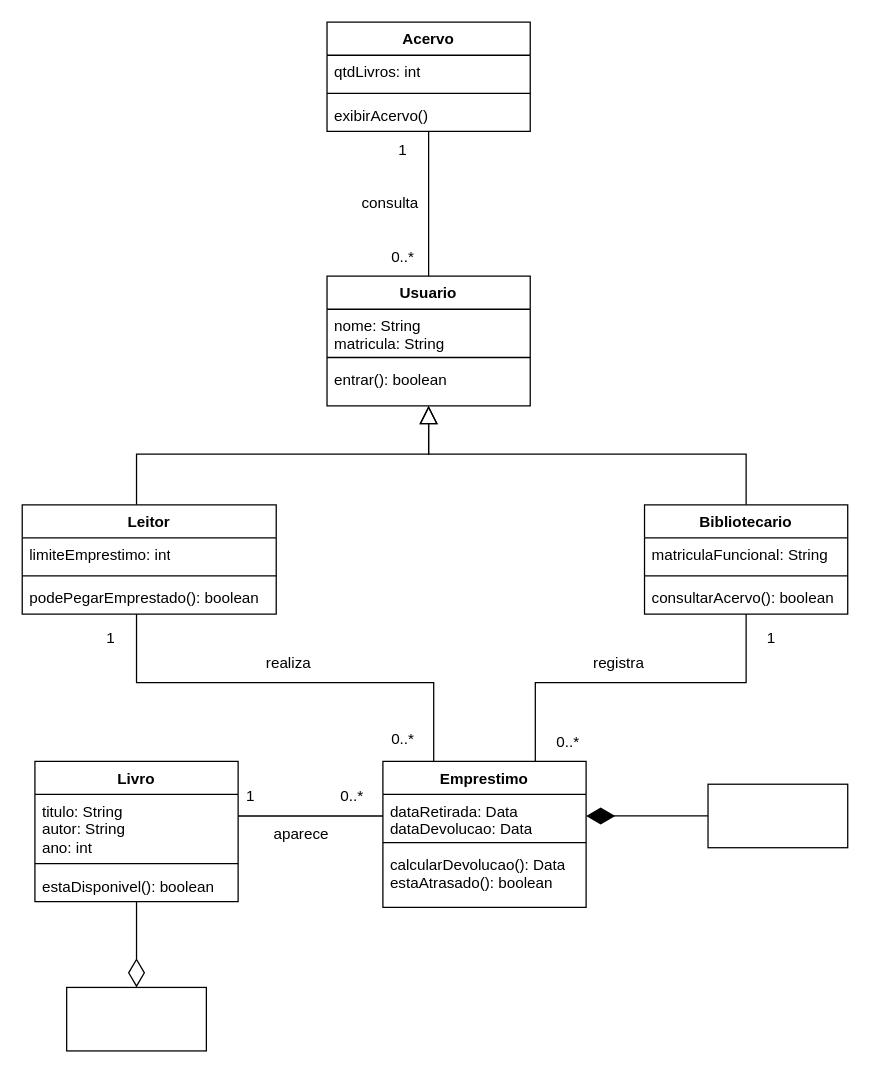
The diagram is 870 pixels wide and 1073 high, and some of its shapes have lost their labels. Here are the shapes that lost their labels. From the top down, the centre of each, then its label:
At point 777,815: "ItemEmprestimo".
At point 135,1018: "Categoria".
